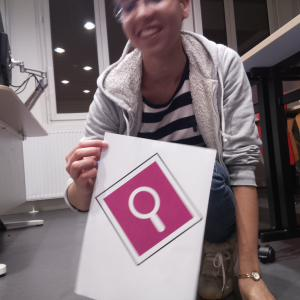search: (93, 153, 203, 268)
